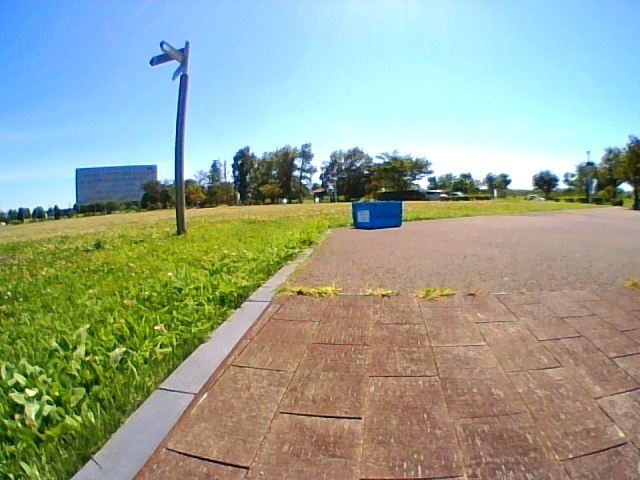blue_box: (352, 201, 401, 229)
tag: (358, 210, 368, 221)
